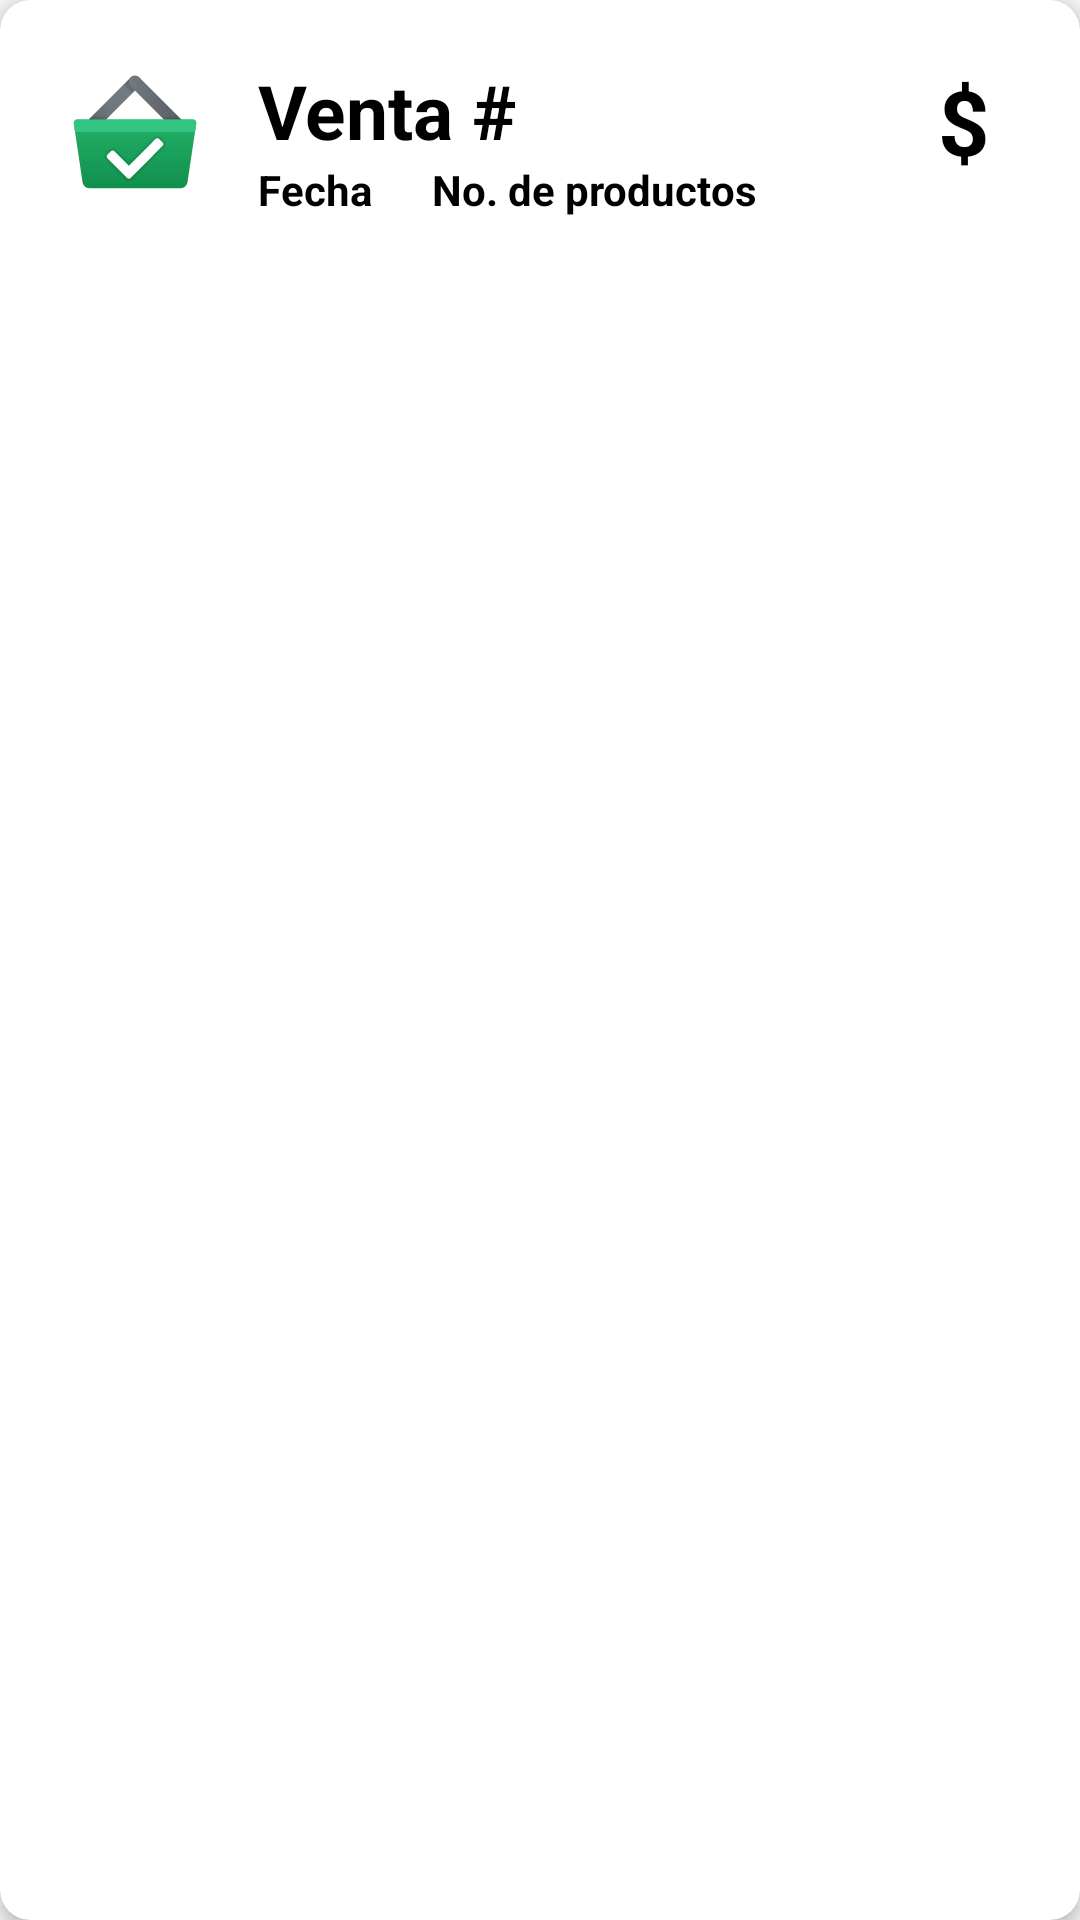

Where to tap for icons on this 1080w x 1920h app screen, as point (x, y):
sale: point (135, 132)
